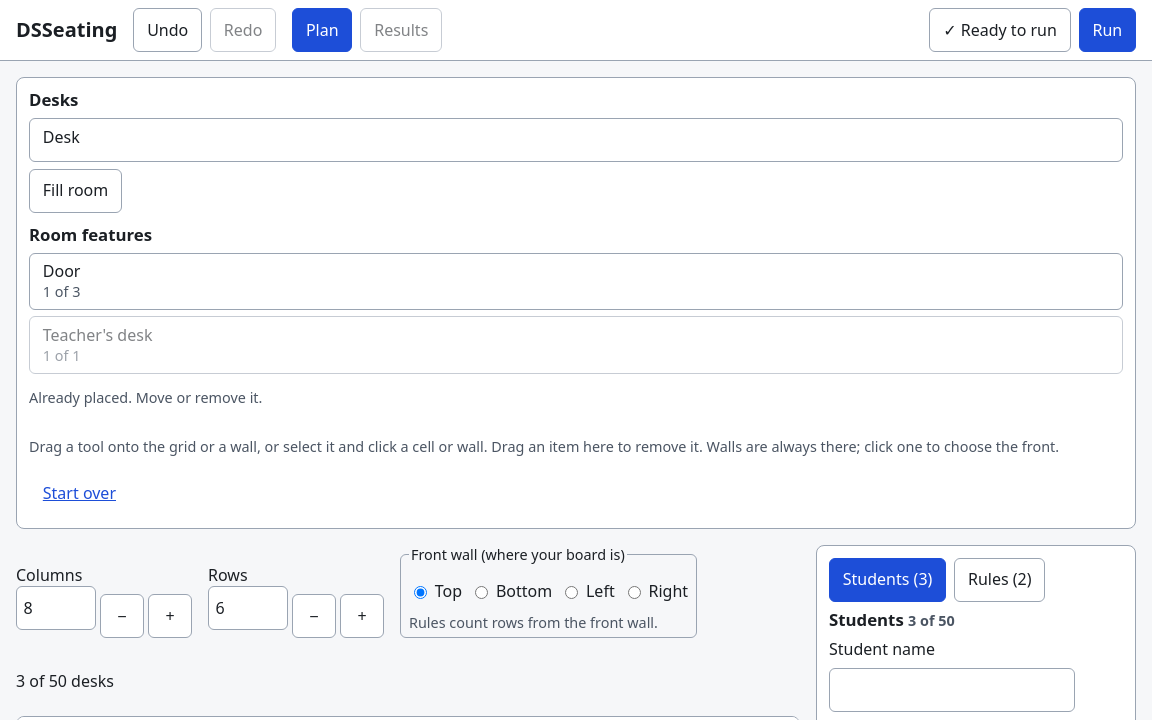
Test: Plan mode › undoes an edit from the header, naming it
This screenshot has width=1152, height=720.
Click the button with aria-label "Undo: add rule": x=168, y=30 [133,8,202,52]
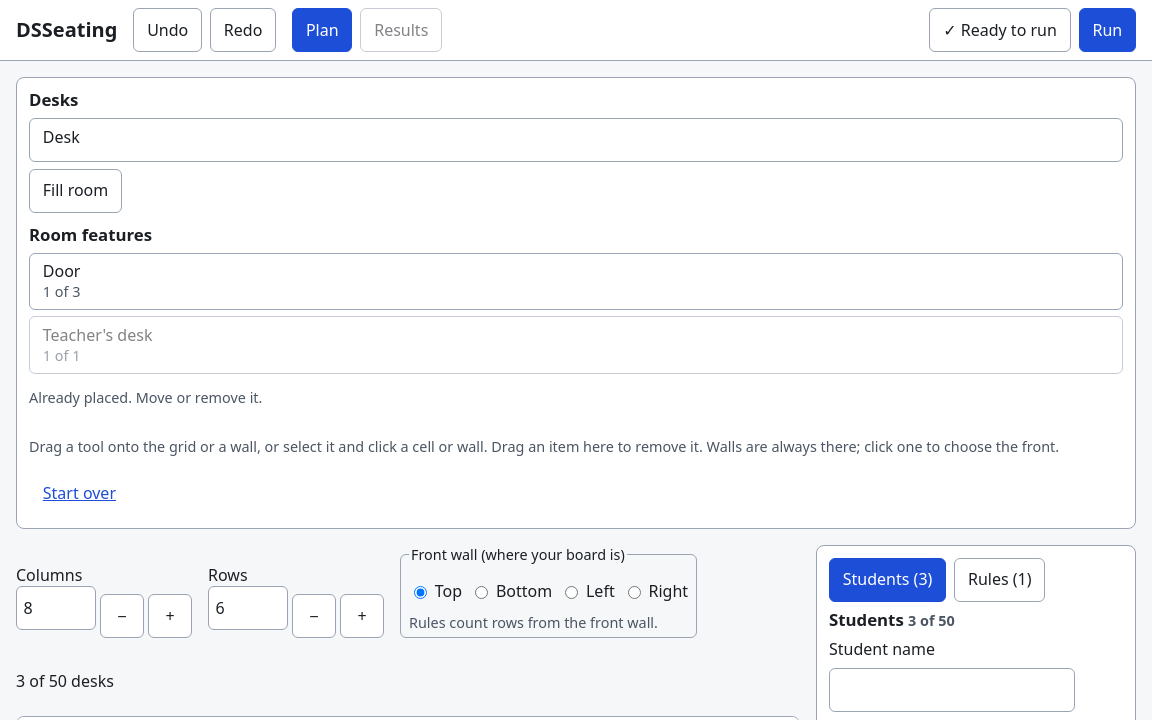
expect the button with aria-label "Redo: add rule" is shown: met, box [210,8,276,52]
